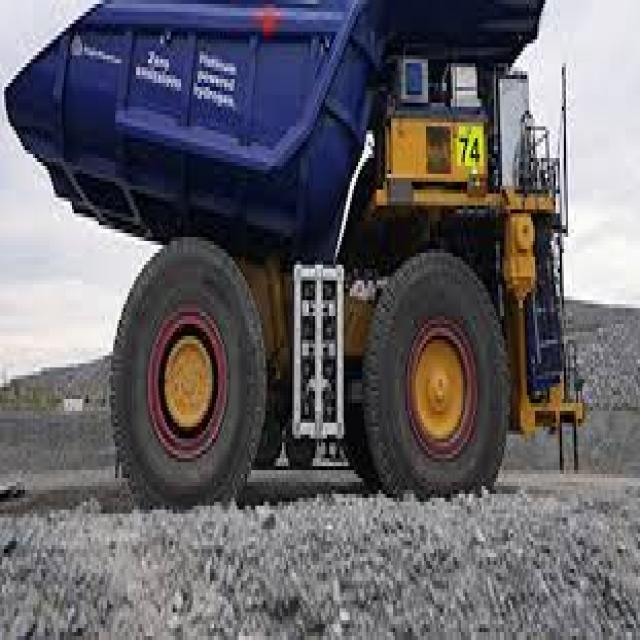dump_truck: (9, 4, 582, 510)
